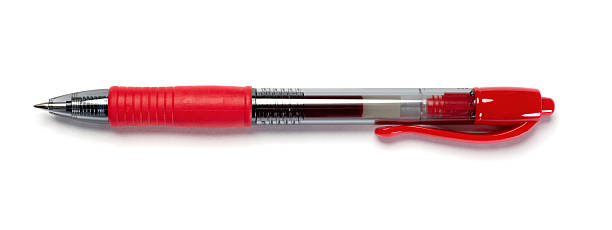pen: (26, 72, 570, 159)
